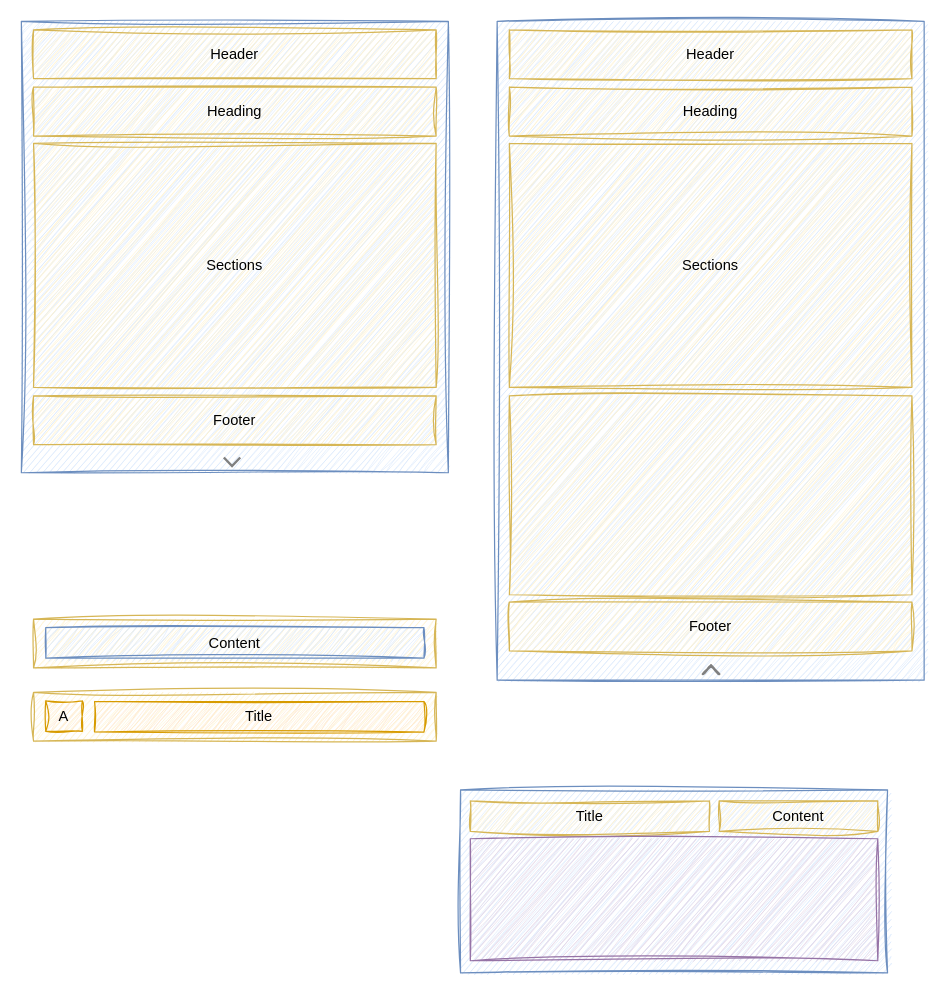
Some shapes in this 946 by 994 pixel diagram are drawn without their labels. Here are the shapes that lost their labels. From the top down, the centre of each, then its label:
At (x=710, y=495): "Expandable sections".
At (x=673, y=899): "Custom HTML".
